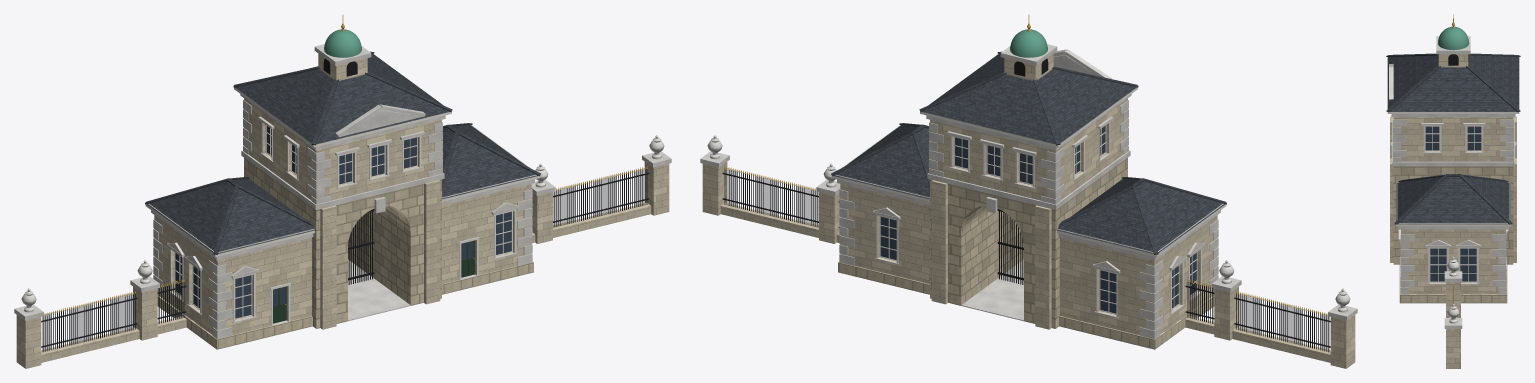
The model's file is palace-gatehouse.glb.
3 views of the same model, side by side, from view 1: azimuth 30°, elevation 25°; view 2: azimuth 150°, elevation 25°; view 3: azimuth 270°, elevation 25° (orthographic). The views are drawn at different scales.
Visible parts, largest first — view 1: Palace_Gatehouse; view 2: Palace_Gatehouse; view 3: Palace_Gatehouse.
Boxes of the visible parts, x1,y1,x2,y2 form: Palace_Gatehouse: [14, 15, 671, 368]; Palace_Gatehouse: [700, 15, 1357, 368]; Palace_Gatehouse: [1386, 14, 1520, 368].
Bounding box in the file's own units: 41.2 × 16.63 × 8.99.
14 materials, 5 textured.
